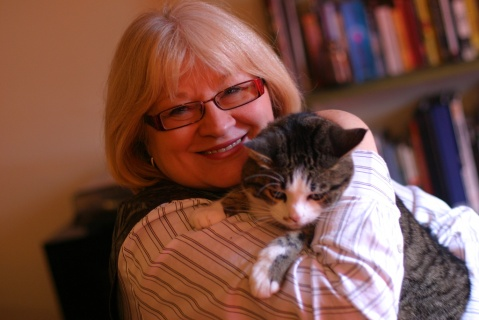Cat: (188, 109, 474, 319)
